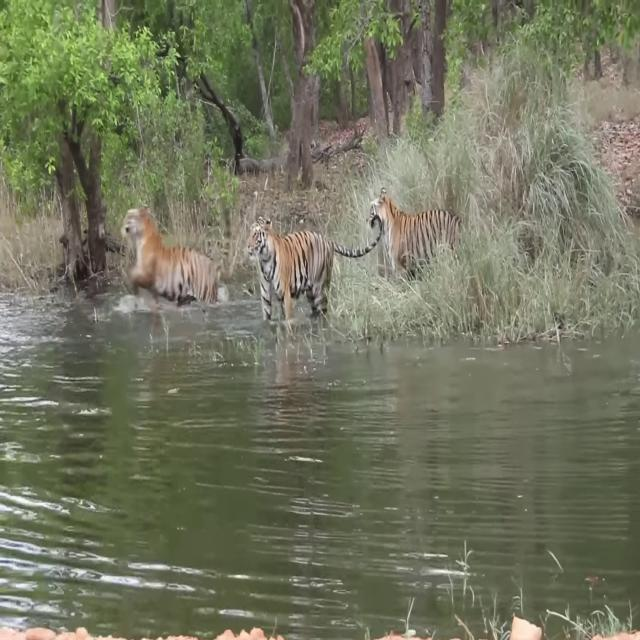tiger: (365, 186, 492, 326), (246, 212, 382, 318), (120, 202, 222, 312)
